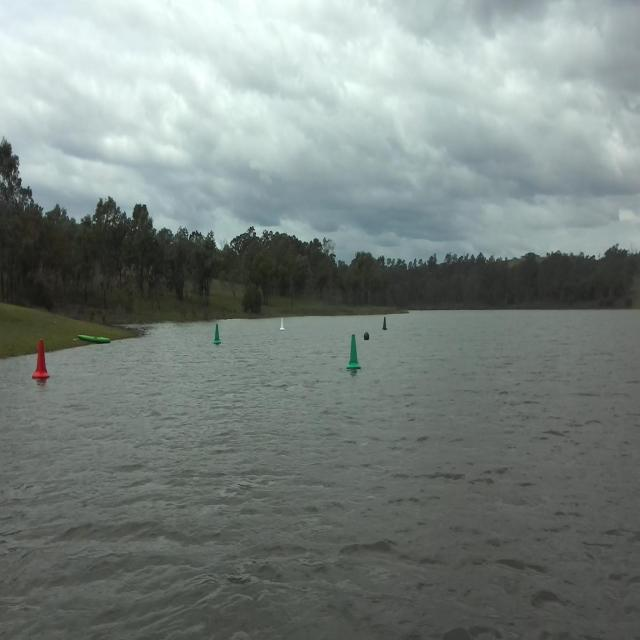Black_Buoy: (380, 314, 390, 333), (362, 329, 371, 344)
Green_Buoy: (343, 332, 361, 374), (211, 321, 223, 346)
Red_Buoy: (30, 338, 51, 381)
White_Buoy: (278, 314, 288, 332)
